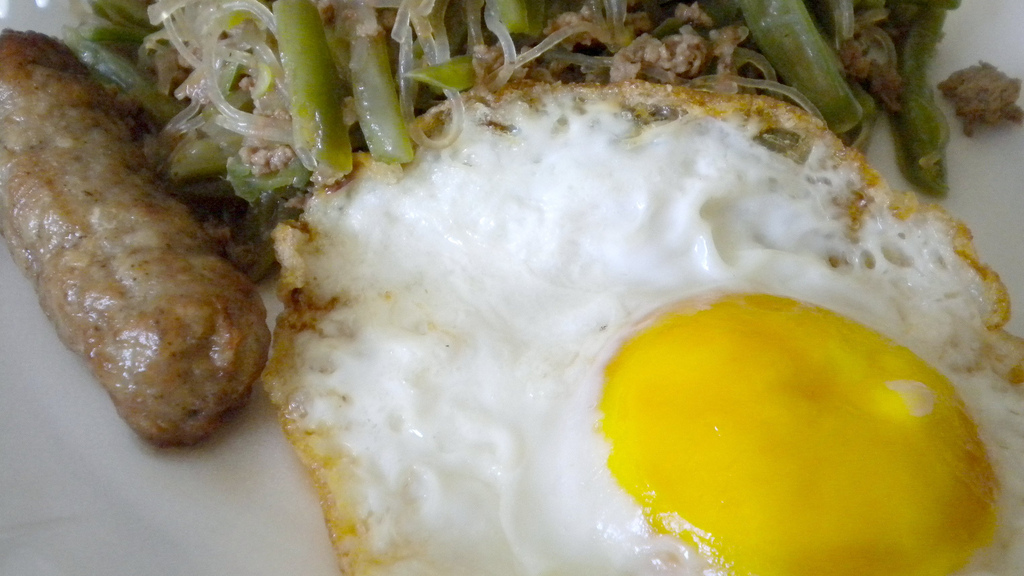fried egg: (255, 92, 1011, 576)
